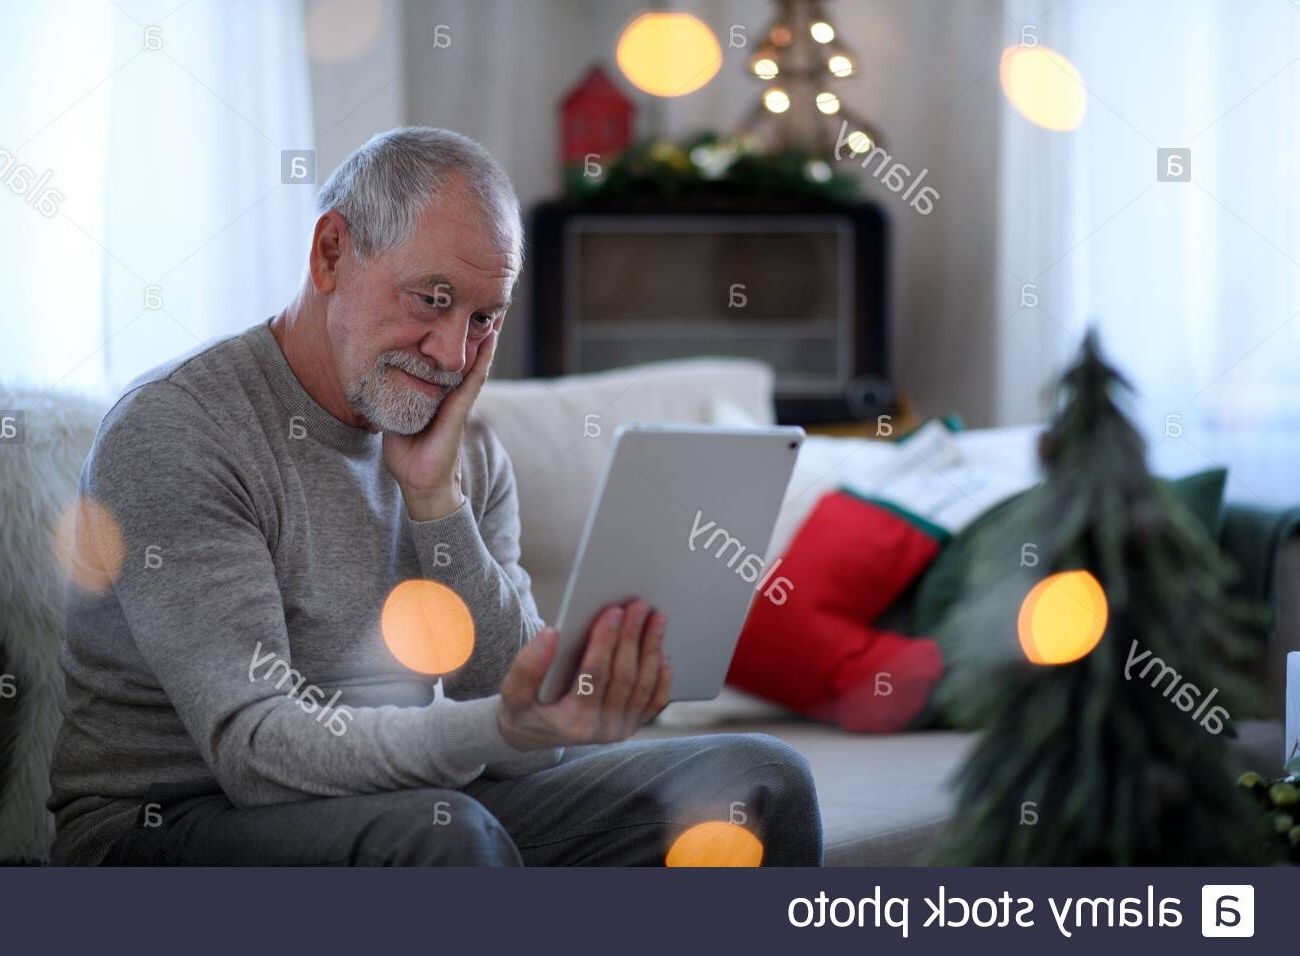not_fallen: (48, 120, 845, 868)
